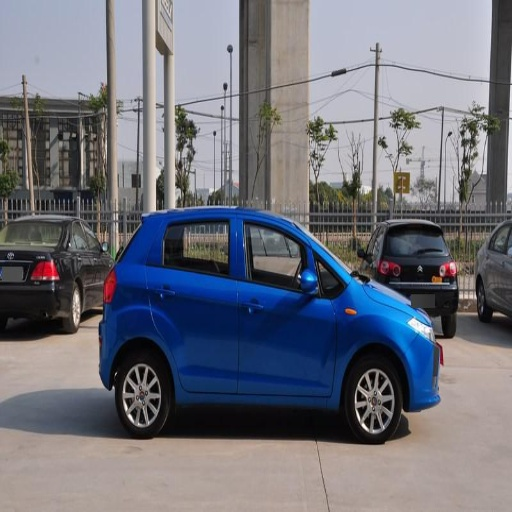back_right_door: (147, 215, 240, 394)
front_right_door: (239, 215, 343, 397)
